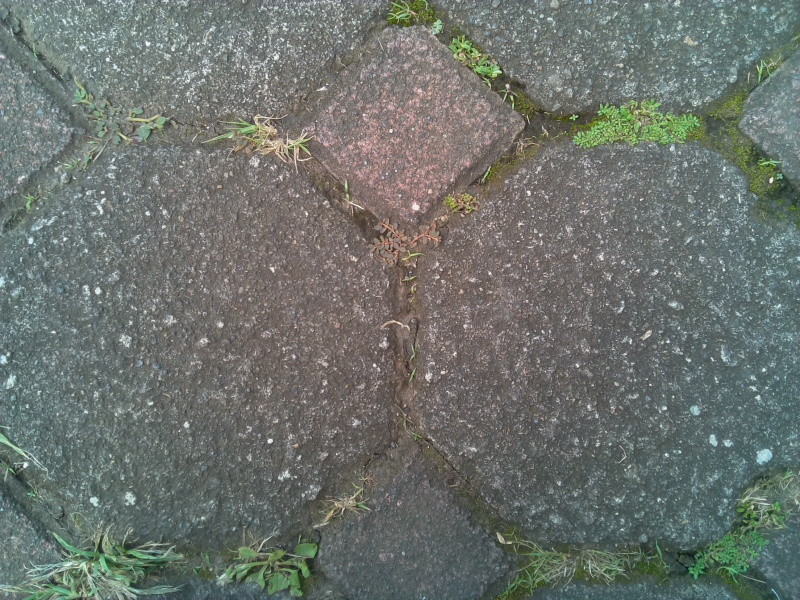Weed: (35, 529, 181, 599), (67, 81, 172, 161), (570, 101, 704, 156), (512, 533, 638, 589), (217, 108, 314, 170), (219, 542, 322, 595), (681, 527, 766, 584), (369, 208, 443, 269), (441, 28, 510, 91), (738, 470, 800, 537), (318, 485, 369, 525), (442, 188, 483, 215), (755, 153, 785, 181), (20, 187, 42, 215)
